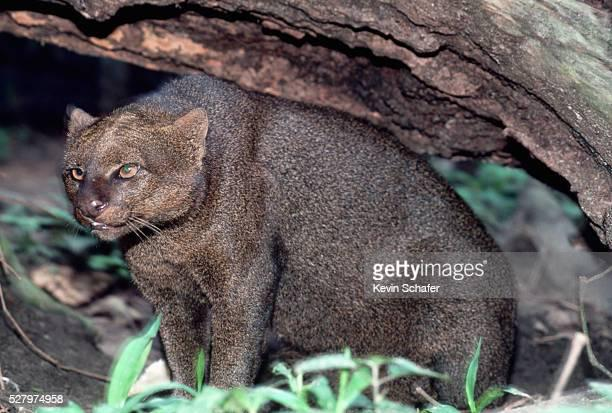Jaguarundi: (48, 69, 513, 399)
